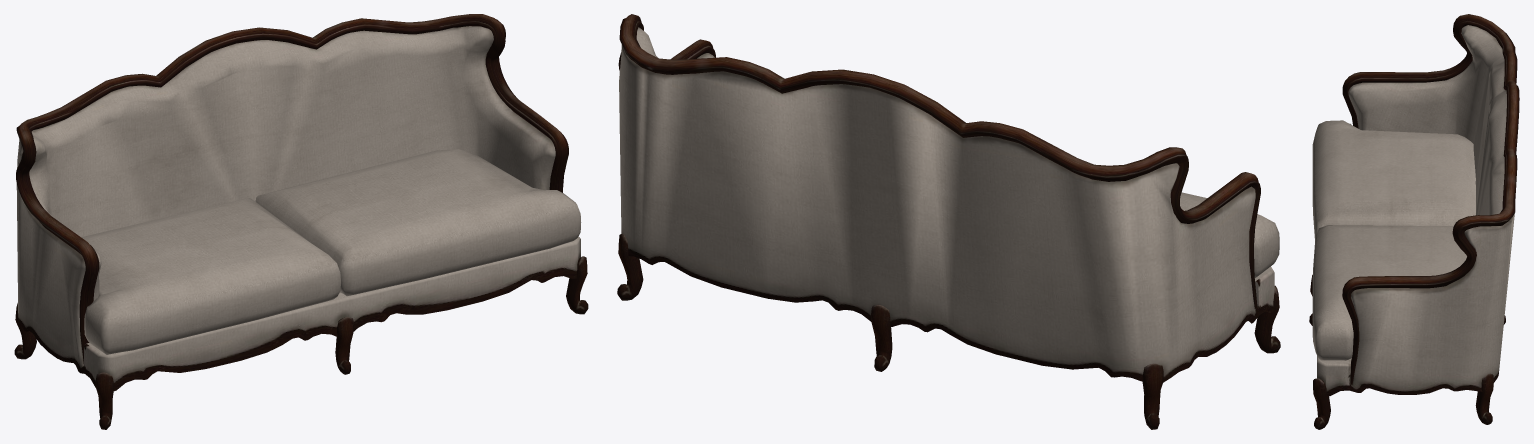
File: ph_sofa_01.fbx
3 views of the same model, side by side, from view 1: azimuth 30°, elevation 25°; view 2: azimuth 150°, elevation 25°; view 3: azimuth 270°, elevation 25° (orthographic). The views are drawn at different scales.
Visible parts, largest first — view 1: ph_sofa_01_LOD0; view 2: ph_sofa_01_LOD0; view 3: ph_sofa_01_LOD0.
Boxes of the visible parts, x1,y1,x2,y2 form: ph_sofa_01_LOD0: (14,14,588,429); ph_sofa_01_LOD0: (617,14,1280,429); ph_sofa_01_LOD0: (1309,14,1519,429).
Size of what is drawn, in the model's own units: 1.57 by 0.7965 by 0.658.
Materials: 1 (1 with a texture image).
